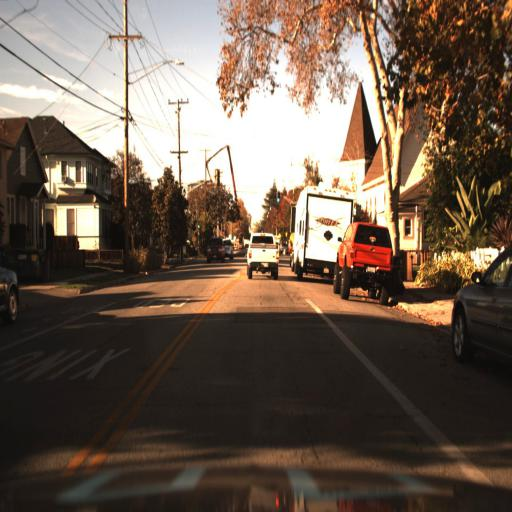car: (450, 247, 512, 375), (330, 220, 394, 304), (245, 232, 281, 282), (0, 259, 21, 331), (203, 236, 225, 264)
truck: (289, 178, 357, 282), (289, 188, 361, 278)
